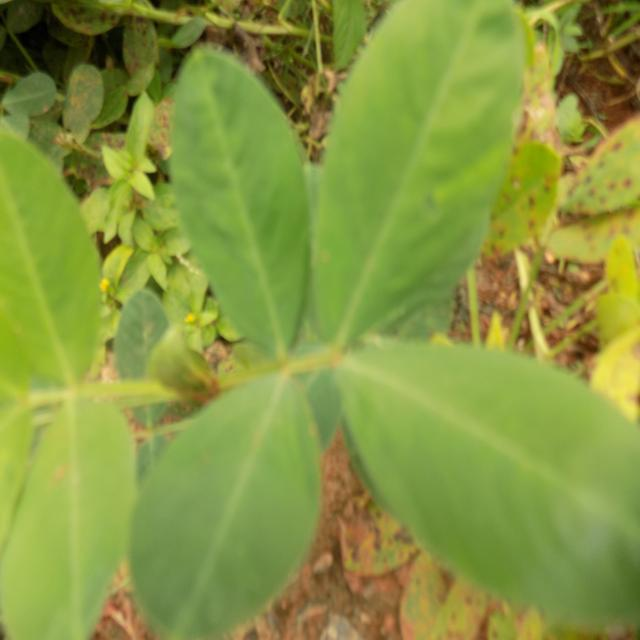Ground nut_healthy: (334, 335, 640, 610), (322, 0, 505, 344), (125, 371, 316, 640), (168, 44, 312, 344)
